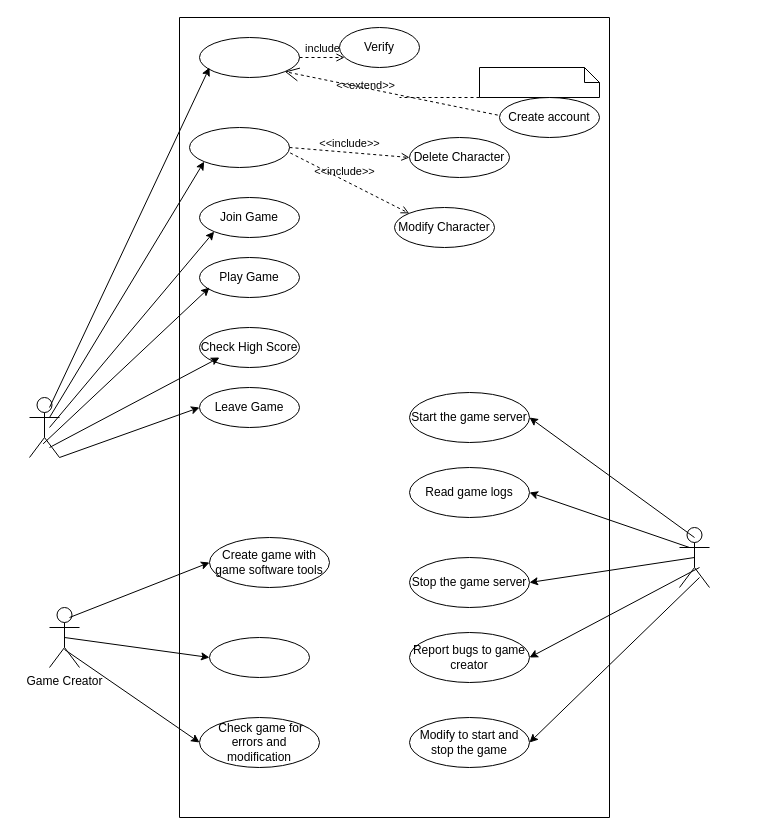
Some shapes in this 765 by 835 pixel diagram are drawn without their labels. Each missing label, with the centre of its shape:
"Condition: If user does not exist" goes at point (539, 82).
"Create game character" goes at point (239, 147).
"Game Administrator" goes at point (694, 557).
"Login" goes at point (249, 57).
"Player" goes at point (44, 427).
"Submit game" goes at point (259, 657).
